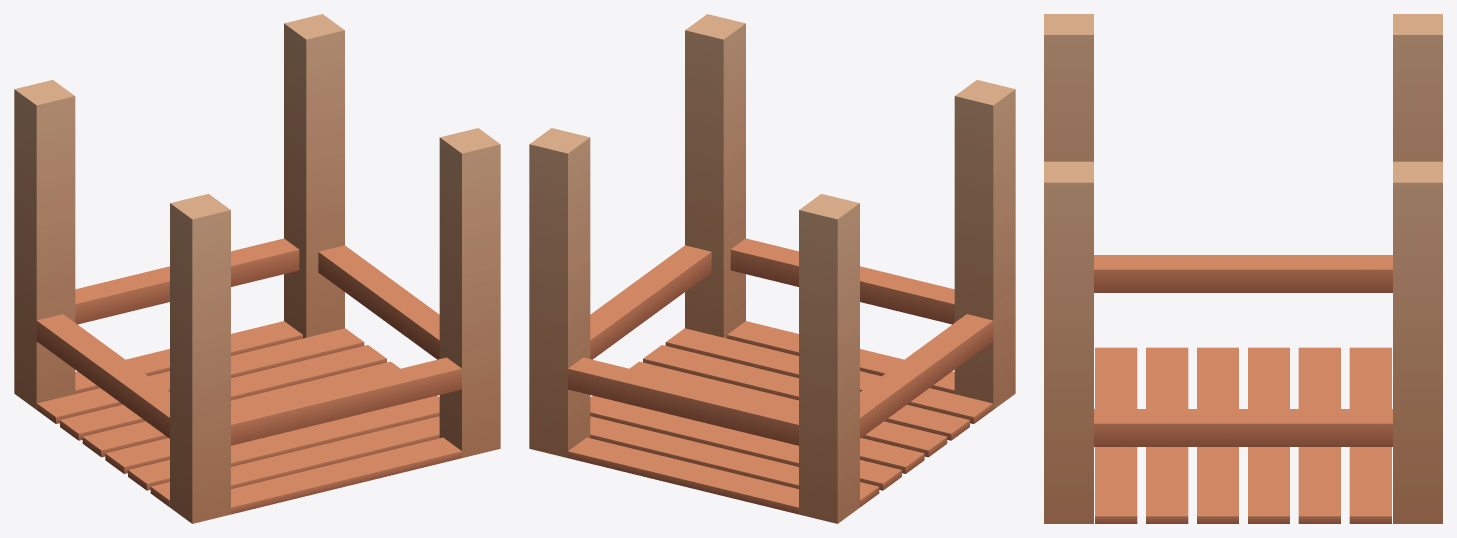
Rendered from tower-square-mid-open-simple.glb.
3 views of the same model, side by side, from view 1: azimuth 30°, elevation 25°; view 2: azimuth 150°, elevation 25°; view 3: azimuth 270°, elevation 25° (orthographic). The views are drawn at different scales.
Visible parts, largest first — view 1: tower-square-mid-open-simple; view 2: tower-square-mid-open-simple; view 3: tower-square-mid-open-simple.
Part boxes in pixels (x1,y1,x2,y2): tower-square-mid-open-simple: (14,14,500,523); tower-square-mid-open-simple: (529,14,1015,523); tower-square-mid-open-simple: (1044,14,1442,523).
Size of the model in its own units: 0.93 by 0.8781 by 0.93.
1 material, 1 textured.
